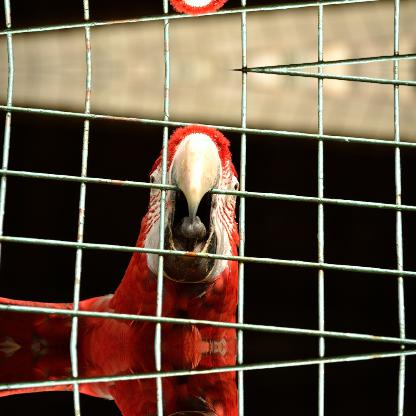Bird: (0, 117, 245, 346), (0, 347, 245, 415)
